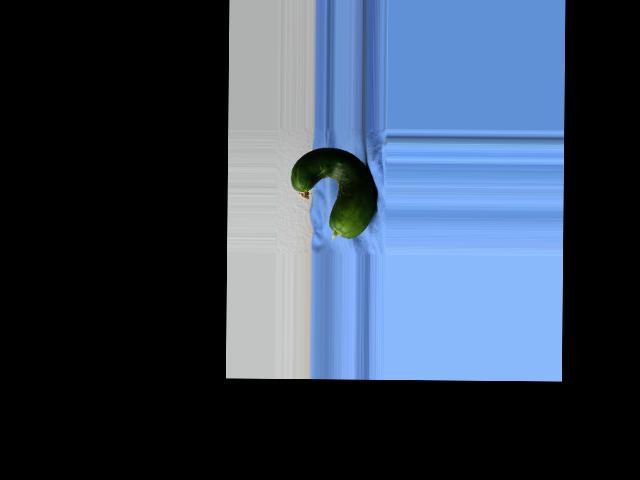cucumber: (290, 147, 377, 239)
